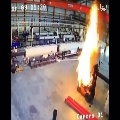fire: (76, 0, 98, 87)
